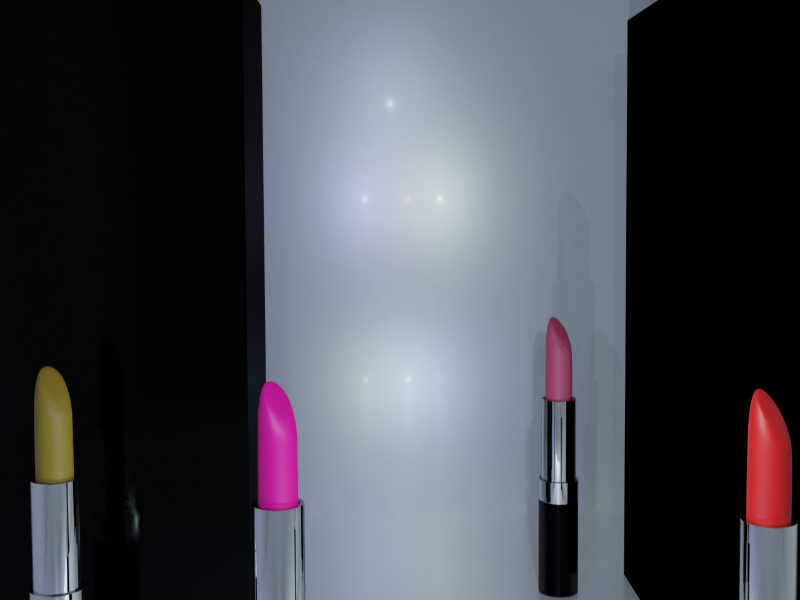lipstick: (29, 363, 83, 600), (255, 377, 309, 599), (744, 385, 800, 595), (540, 311, 578, 590)
